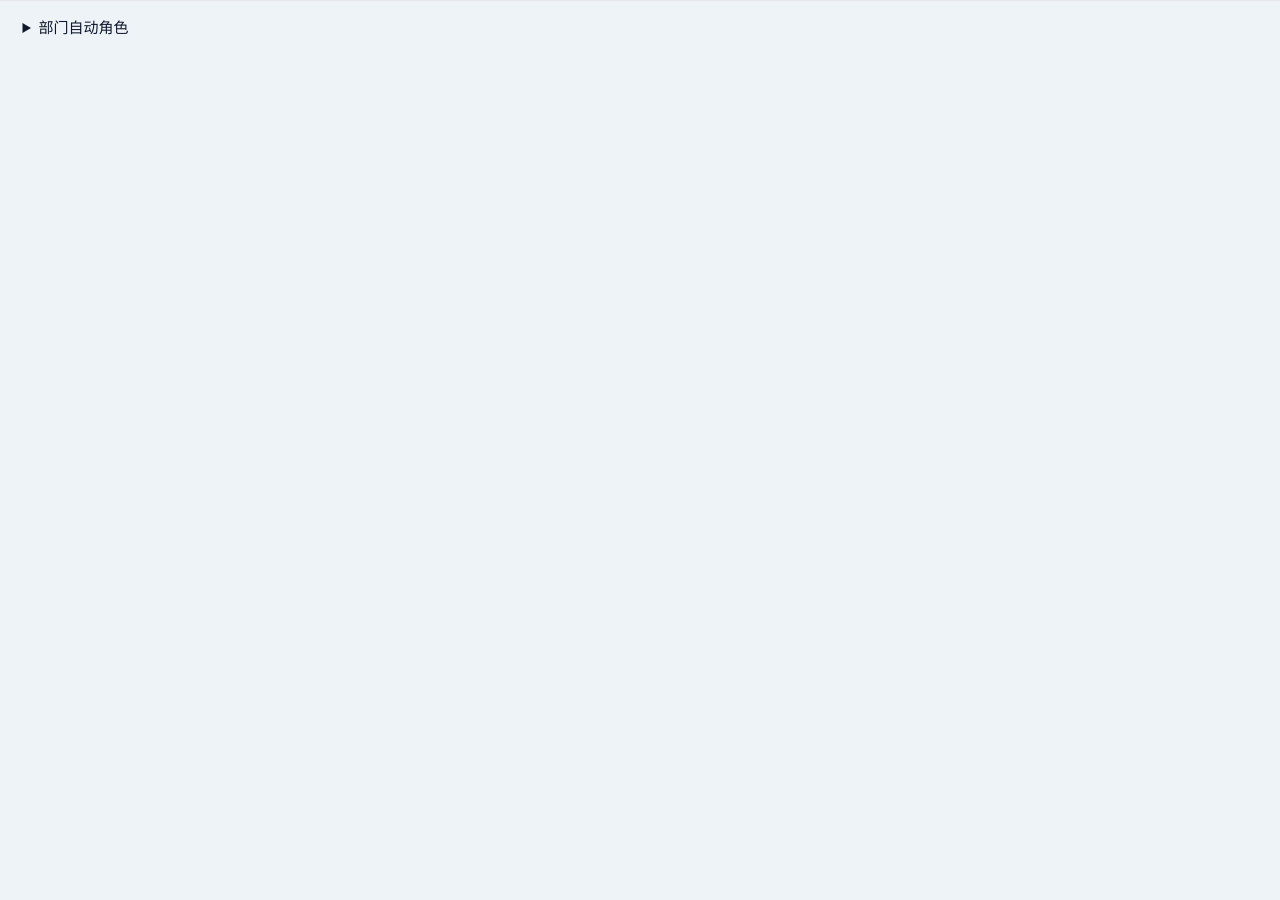
binds rule settings and preview to the selected department before confirming and reloading member results
Step 1. Click the heading "部门自动角色" → {"x": 83, "y": 28}, box left=38, top=19, right=128, bottom=36
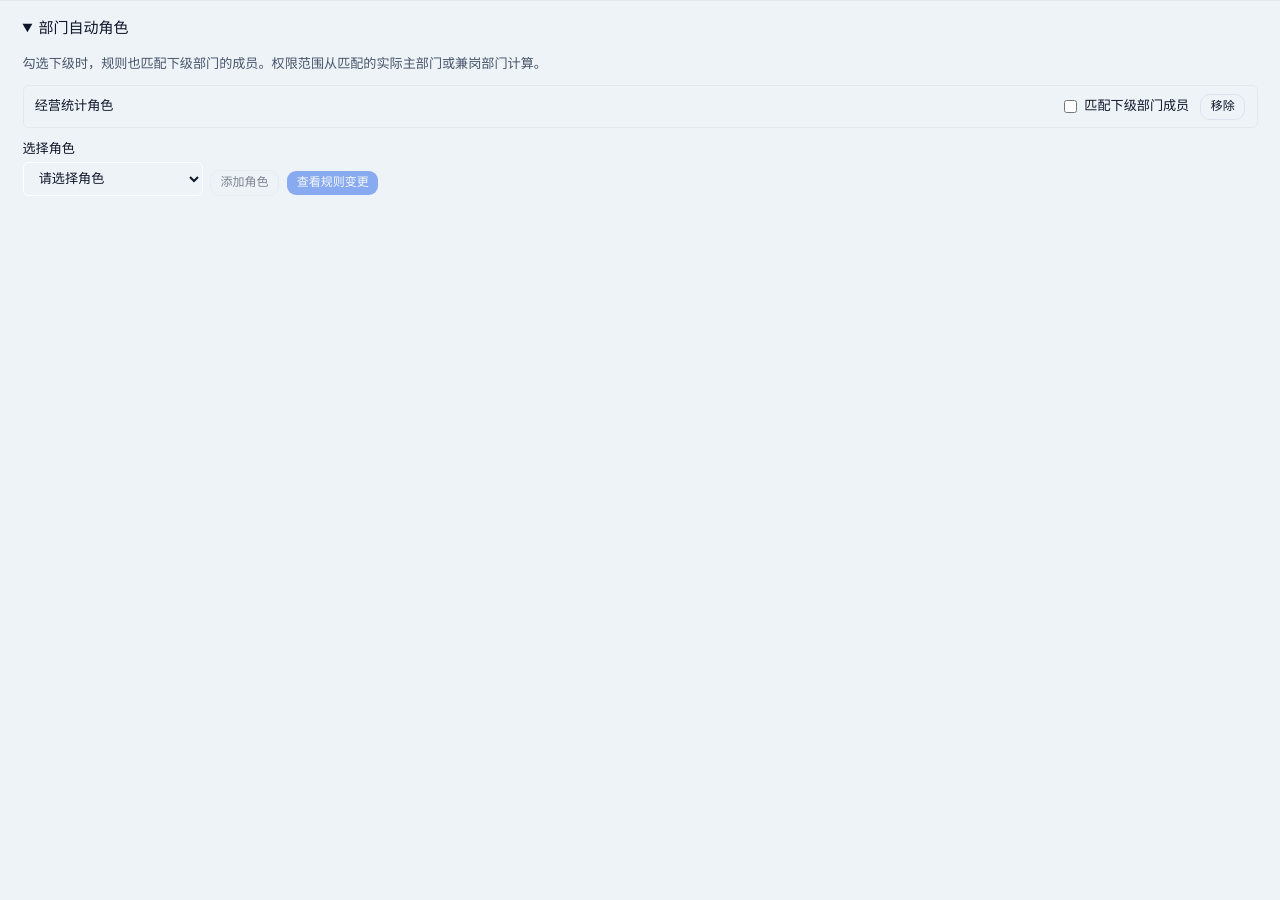
Step 2. Select "收寄台账角色" in the dropdown labelled "选择角色" → {"x": 112, "y": 179}, box left=22, top=162, right=202, bottom=196
Step 3. Click the button "添加角色" → {"x": 244, "y": 183}, box left=210, top=170, right=279, bottom=196
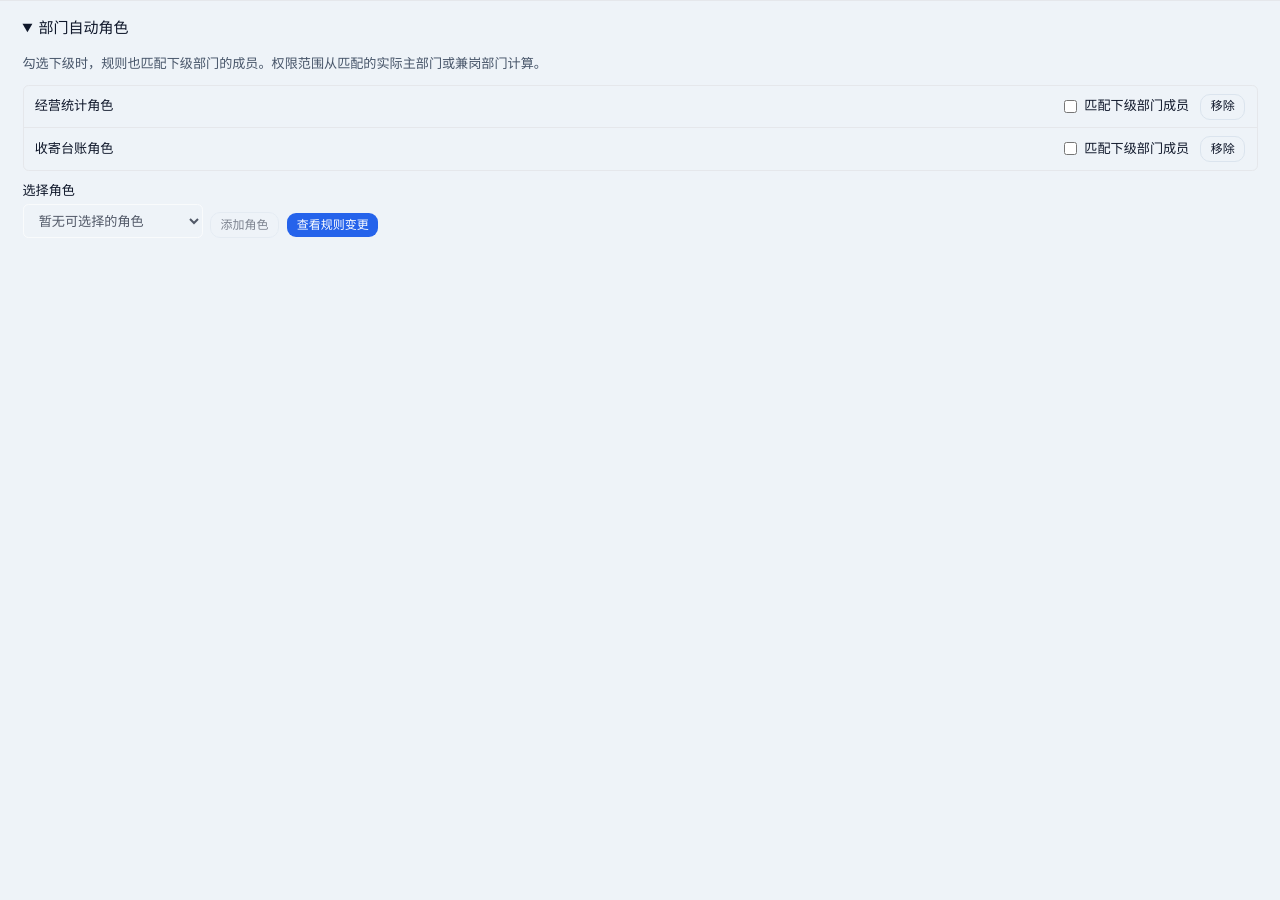
Step 4. Click the checkbox named "收寄台账角色 匹配下级部门成员" → {"x": 1070, "y": 149}, box left=1064, top=142, right=1077, bottom=155
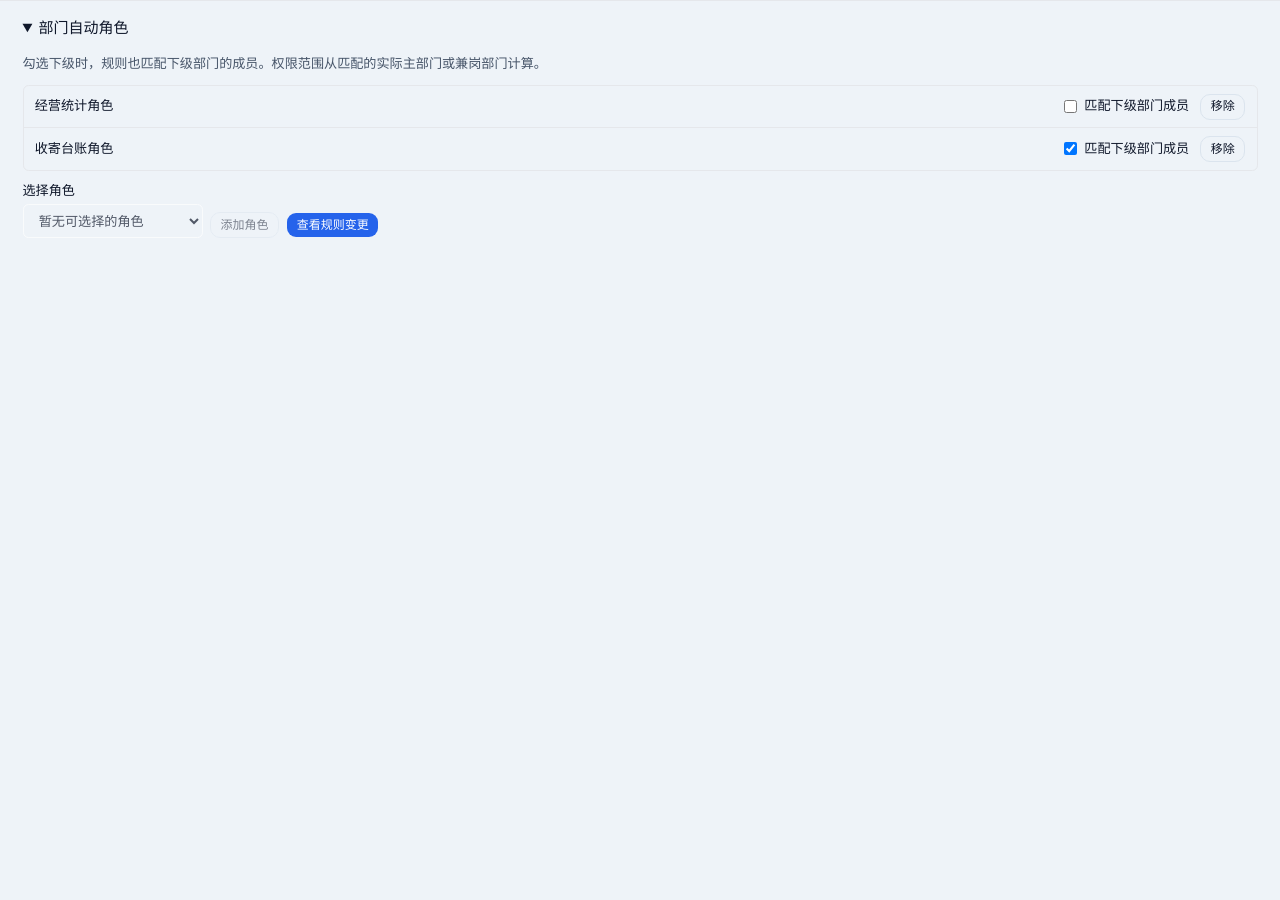
Step 5. Click the button "查看规则变更" → {"x": 333, "y": 225}, box left=286, top=212, right=379, bottom=238
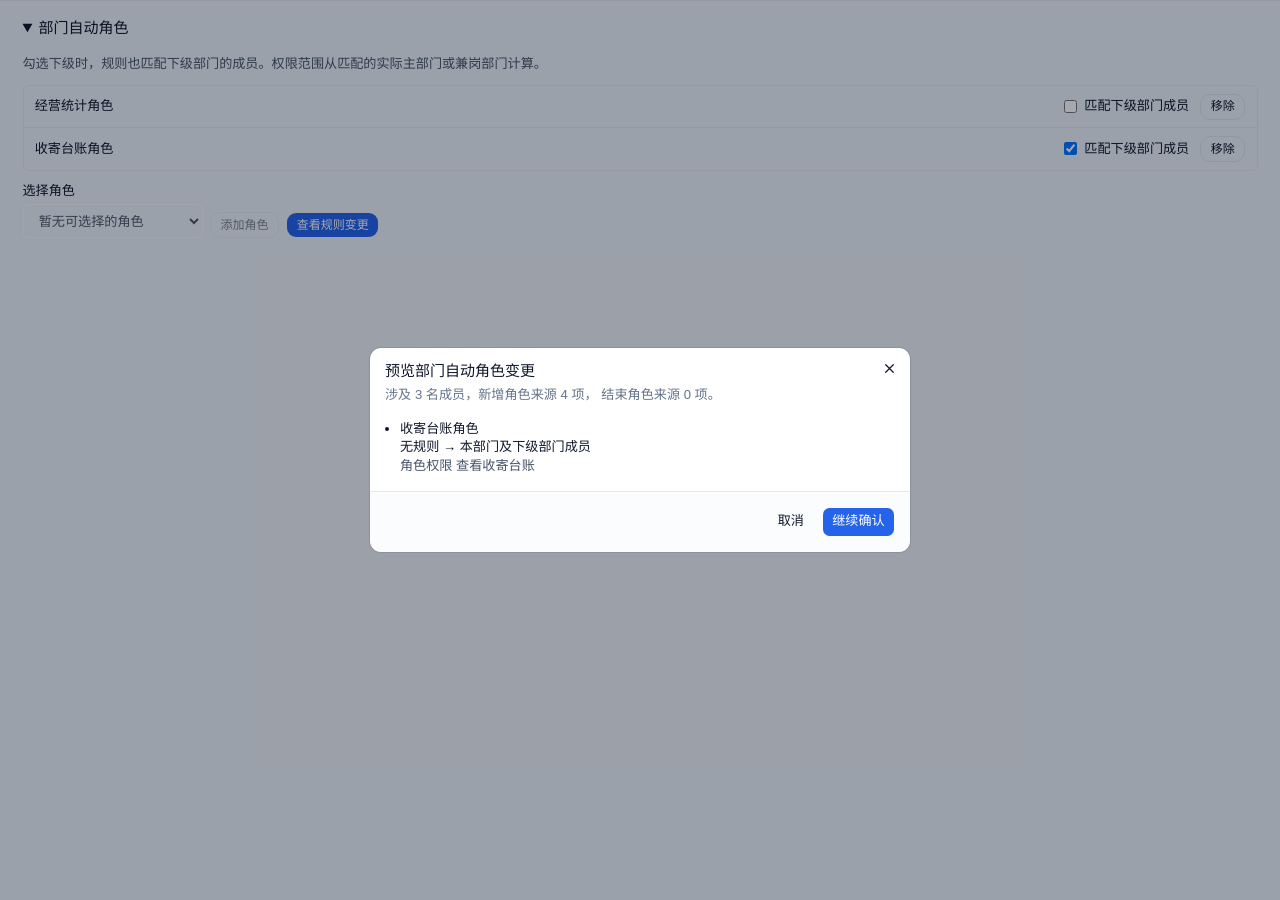
Now the text "涉及 3 名成员，新增角色来源 4 项， 结束角色来源 0 项。" is shown, box left=385, top=387, right=721, bottom=402
Now the text "角色权限 查看收寄台账" is shown, box left=400, top=458, right=535, bottom=473
Now the text "无规则 → 本部门及下级部门成员" is shown, box left=400, top=439, right=591, bottom=454
Step 6. Click the button "继续确认" → {"x": 858, "y": 522}, box left=822, top=507, right=895, bottom=537
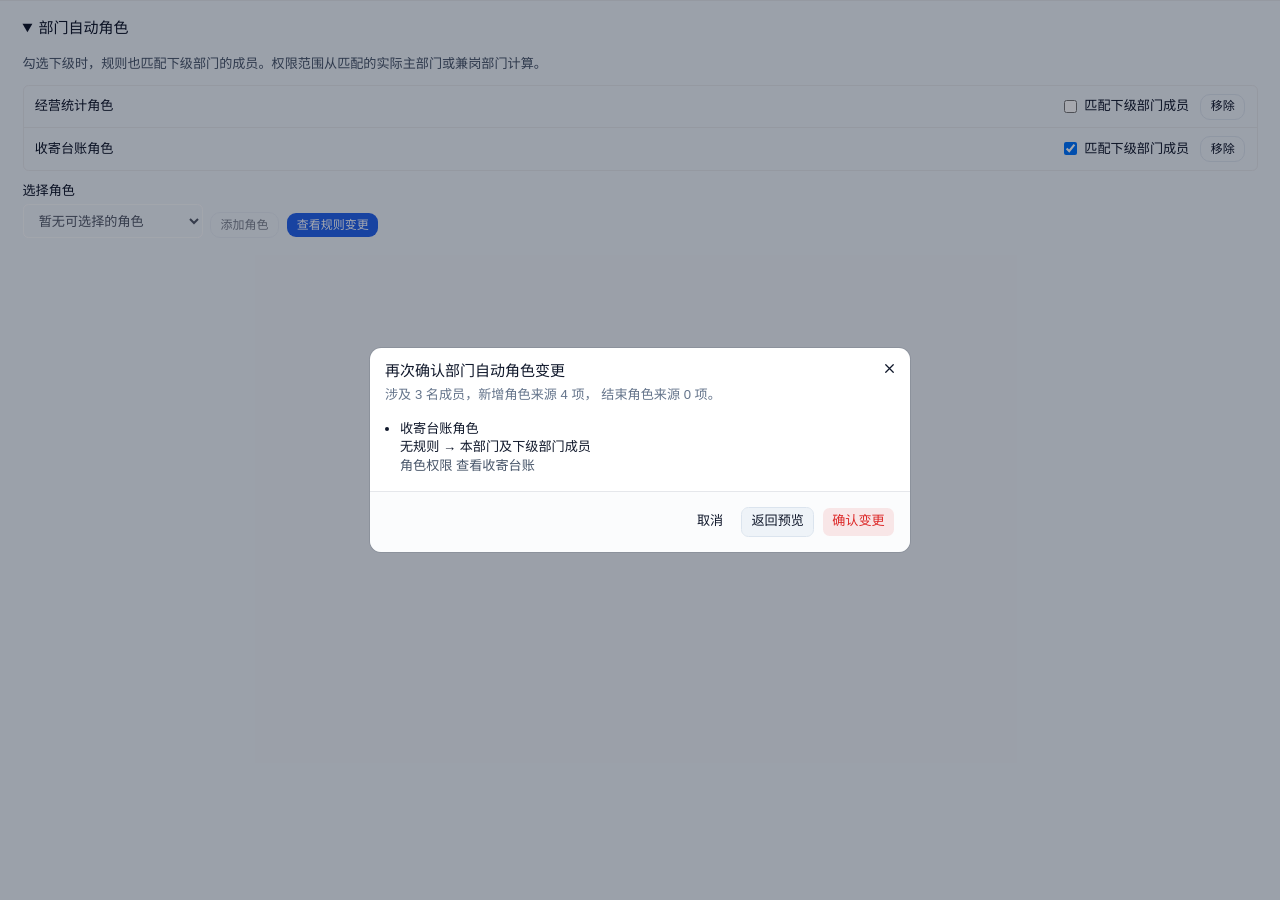
Step 7. Click the button "确认变更" → {"x": 858, "y": 522}, box left=822, top=507, right=895, bottom=537
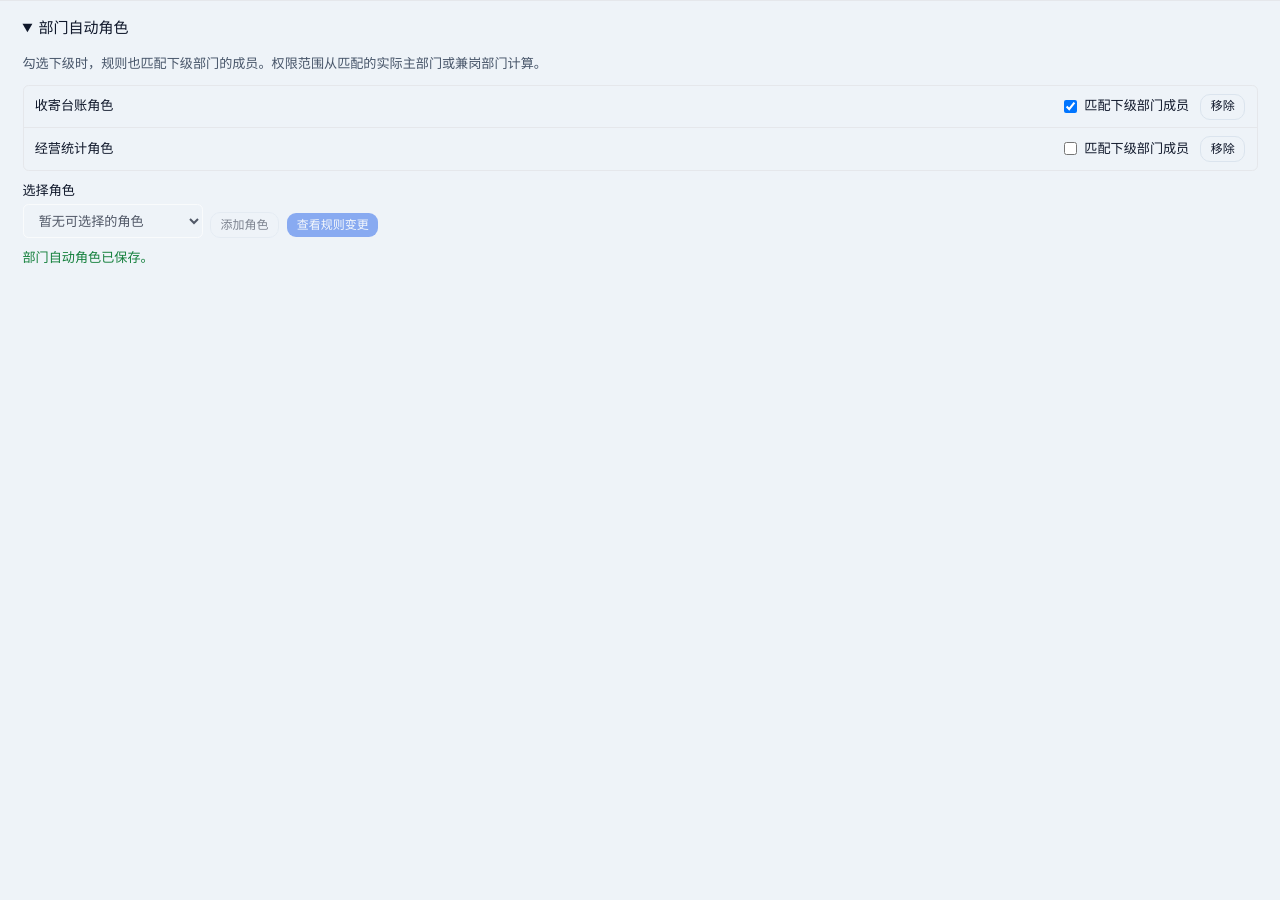
Now the checkbox named "收寄台账角色 匹配下级部门成员" is checked, box left=1064, top=100, right=1077, bottom=113
Now the checkbox named "经营统计角色 匹配下级部门成员" is not checked, box left=1064, top=142, right=1077, bottom=155
Now the text "部门自动角色已保存。" is shown, box left=22, top=250, right=154, bottom=265
